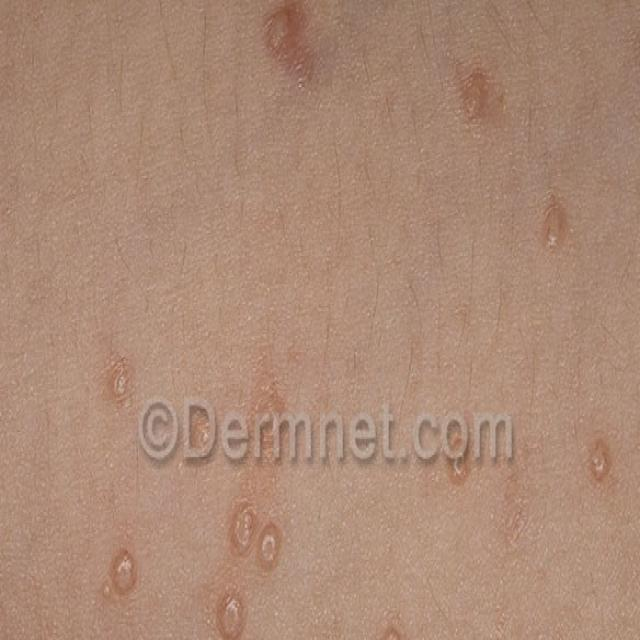Viral Infections: (93, 311, 424, 640), (438, 188, 630, 526), (229, 4, 640, 135)
